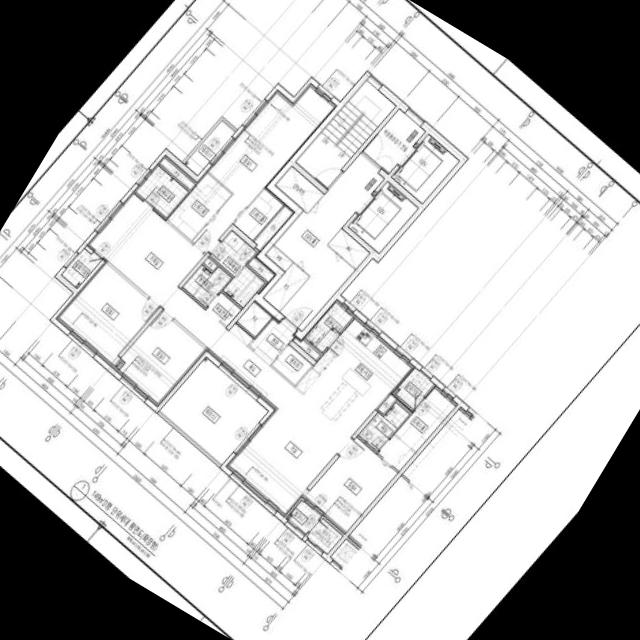background: (0, 0, 640, 640)
space_balconi: (159, 357, 268, 464), (286, 500, 342, 554), (184, 120, 235, 175)
space_bedroom: (192, 83, 336, 253), (303, 435, 414, 534), (56, 262, 158, 364), (117, 311, 206, 406)
space_dressroom: (167, 172, 231, 240), (395, 385, 457, 451), (233, 187, 284, 240)
space_elevator: (348, 181, 417, 253), (391, 134, 459, 203)
space_elevator_hall: (273, 108, 425, 331)
space_front: (249, 317, 312, 384)
space_kitchen: (296, 316, 413, 437)
space_living_room: (87, 192, 350, 516)
space_multipurpose_space: (134, 164, 188, 217), (304, 299, 354, 353)
space_other: (275, 166, 323, 213), (263, 263, 309, 311), (254, 205, 294, 251), (328, 228, 369, 269), (158, 155, 196, 189), (237, 301, 272, 336), (265, 245, 293, 271), (248, 256, 275, 282), (293, 337, 320, 360), (378, 392, 397, 413), (203, 257, 217, 270)
space_outdoor_room: (61, 248, 102, 288), (394, 368, 434, 409)
space_staircase: (295, 80, 395, 187)
space_toilet: (210, 231, 264, 307), (183, 265, 240, 326), (358, 402, 409, 451)
